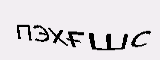Г: (95, 17, 113, 51)
Ж: (57, 15, 91, 49)
С: (45, 17, 64, 44)
Э: (32, 17, 47, 39)
Я: (112, 23, 129, 50)
